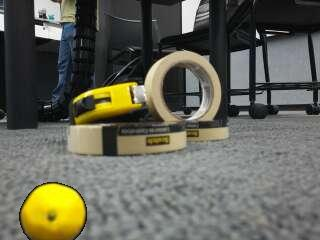lemon: (21, 183, 86, 240)
